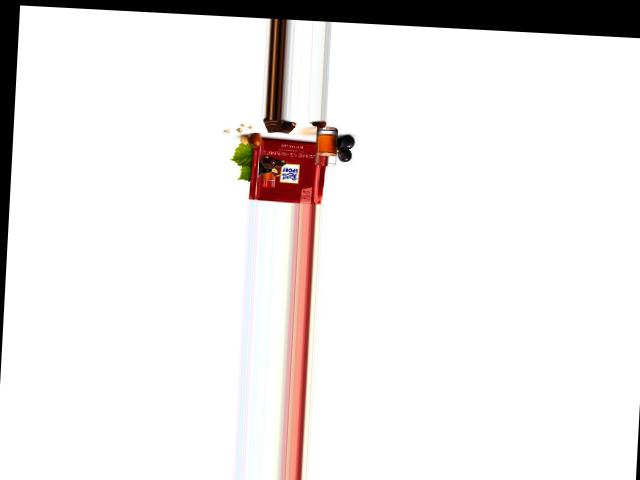chocolate: (246, 137, 325, 203)
